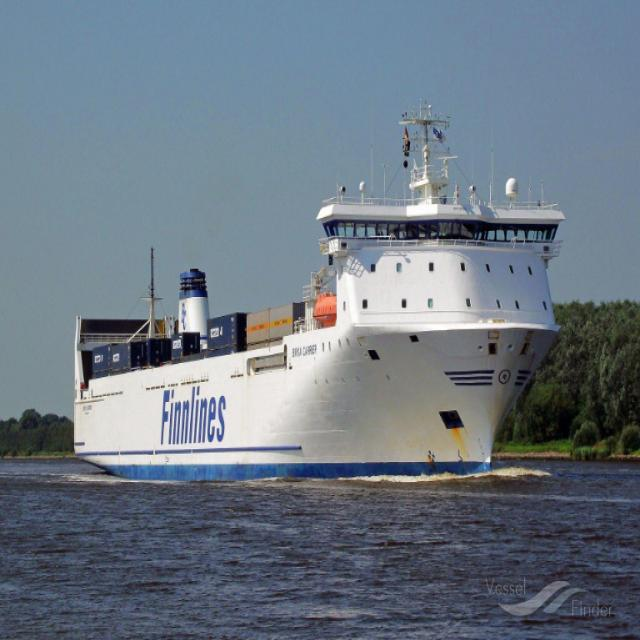RORO Vessel: (75, 114, 565, 483)
